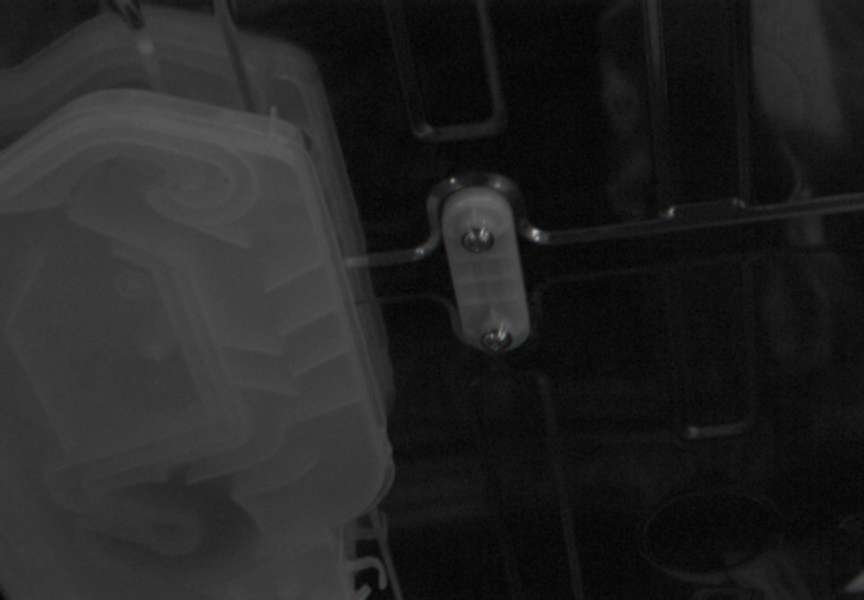screw: (461, 227, 495, 254), (481, 327, 512, 354)
